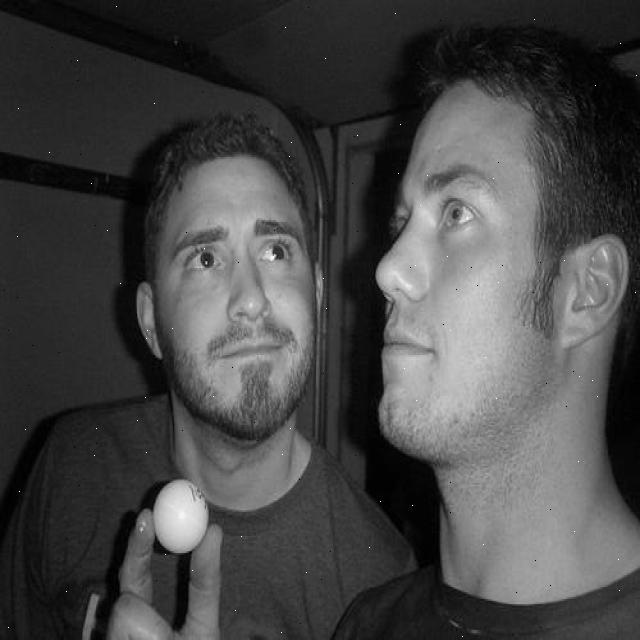ping-pong-ball: (150, 477, 212, 558)
